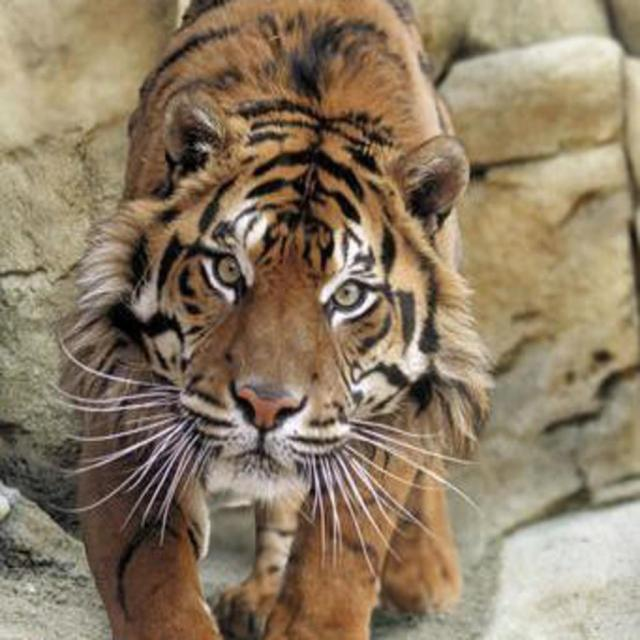Tiger: (49, 0, 494, 638)
